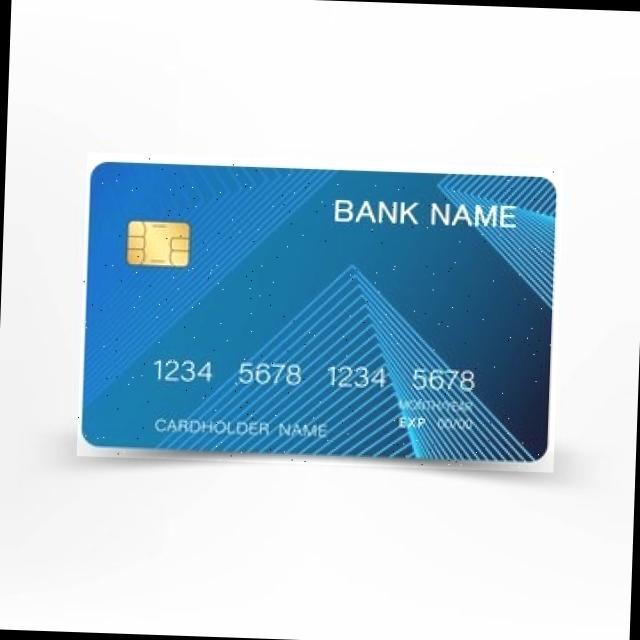payment_card: (76, 159, 557, 472)
